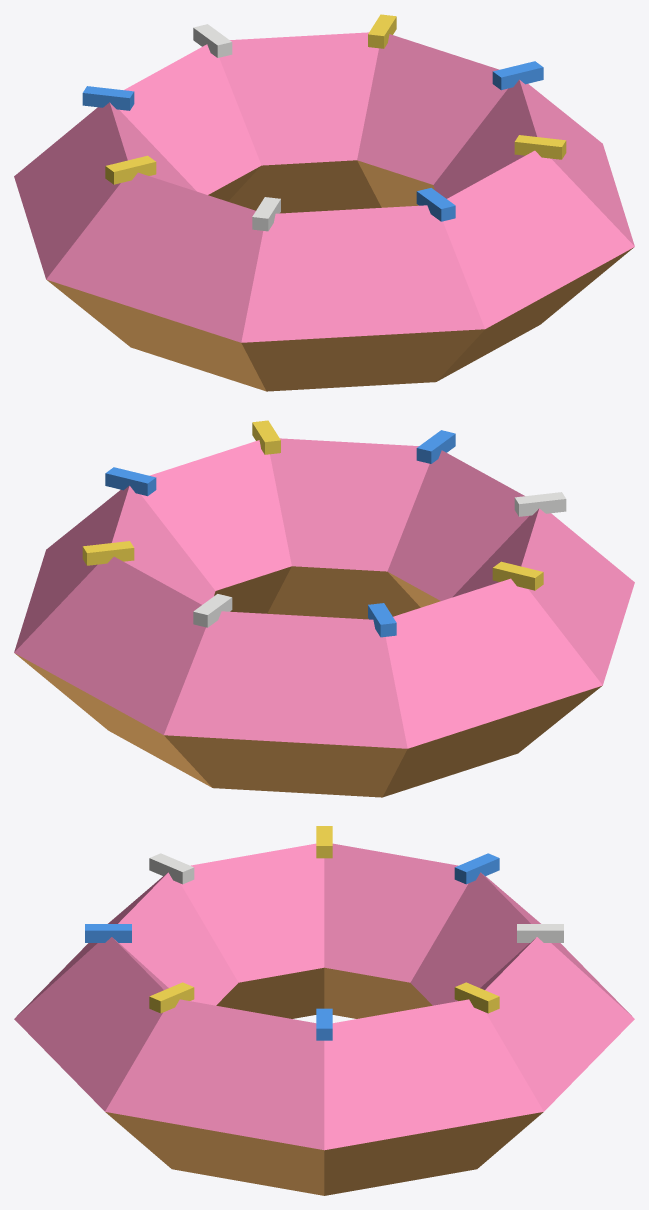
File: DonutFloat.fbx
The picture shows the model from 3 angles, top to bottom: view 1: azimuth 30°, elevation 25°; view 2: azimuth 150°, elevation 25°; view 3: azimuth 270°, elevation 25°; orthographic projection. The views are drawn at different scales.
Parts seen in each view (by area): view 1: DonutFloat; view 2: DonutFloat; view 3: DonutFloat.
Part boxes in pixels (box(x1,y1,x2,y2)): DonutFloat: box(14, 14, 634, 391); DonutFloat: box(14, 420, 634, 797); DonutFloat: box(14, 826, 634, 1195).
Bounding box in the file's own units: 4.6 × 1.45 × 4.6.
Materials: 1 (1 with a texture image).
